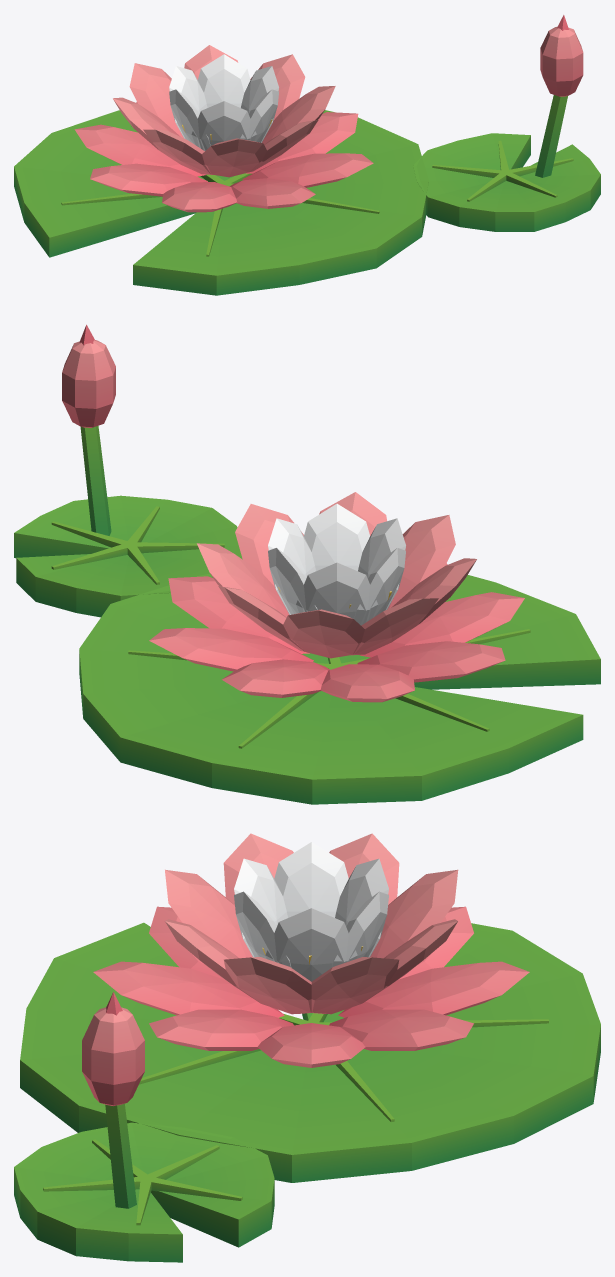
The model's file is lotus_bloom.glb.
The picture shows the model from 3 angles, top to bottom: view 1: azimuth 30°, elevation 25°; view 2: azimuth 150°, elevation 25°; view 3: azimuth 270°, elevation 25°; orthographic projection. The views are drawn at different scales.
Parts seen in each view (by area): view 1: lotus_bloom; view 2: lotus_bloom; view 3: lotus_bloom.
Boxes of the visible parts, x1,y1,x2,y2 form: lotus_bloom: [14, 15, 600, 295]; lotus_bloom: [14, 324, 600, 804]; lotus_bloom: [14, 833, 600, 1262].
Bounding box in the file's own units: 1.2 × 0.415 × 0.8893.
1 material, 1 textured.
